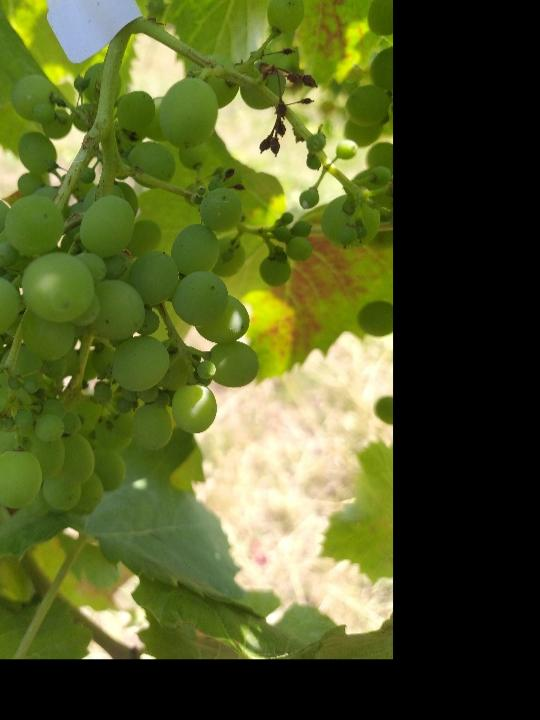grape: (0, 0, 391, 516)
